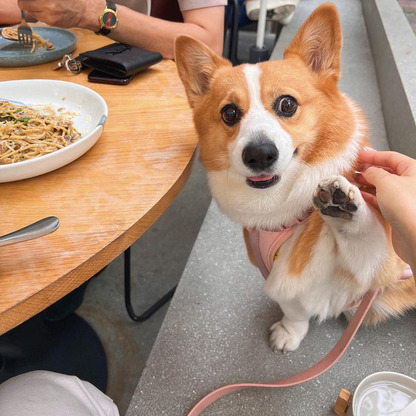Corgi: (169, 20, 386, 320)
